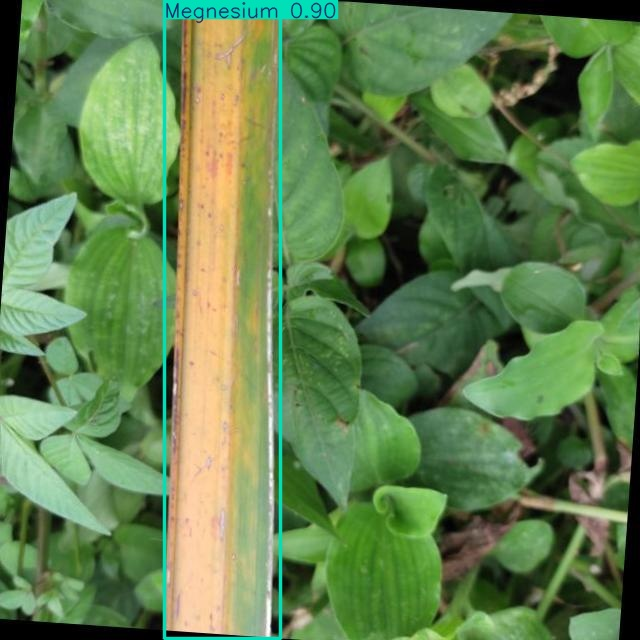Megnesium: (164, 0, 280, 639)
